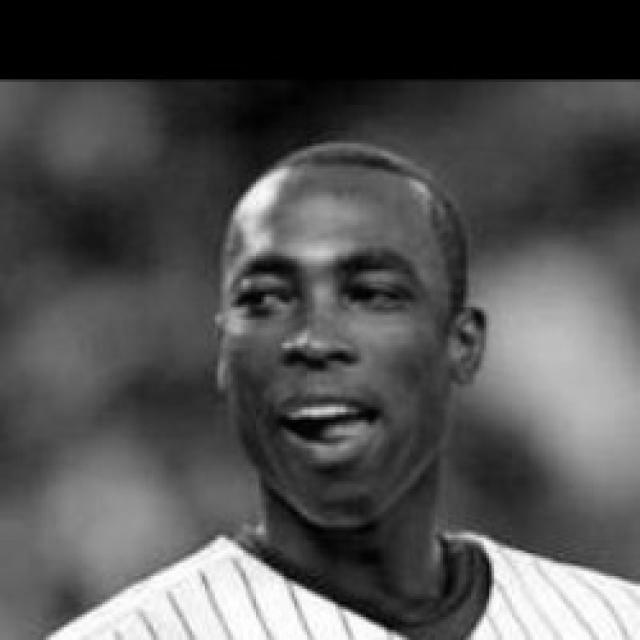real: (218, 170, 454, 529), (235, 270, 415, 323)
